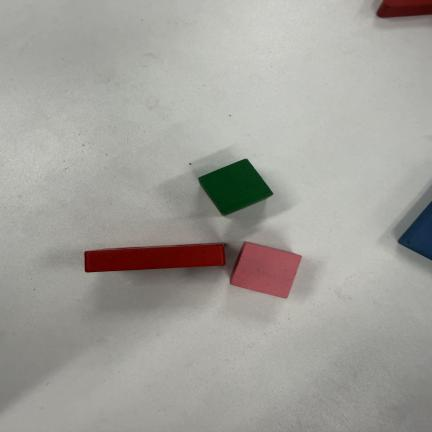BuildingBlocks: (199, 159, 272, 215), (85, 243, 225, 272), (231, 242, 301, 297), (399, 203, 431, 259), (377, 0, 432, 18)
